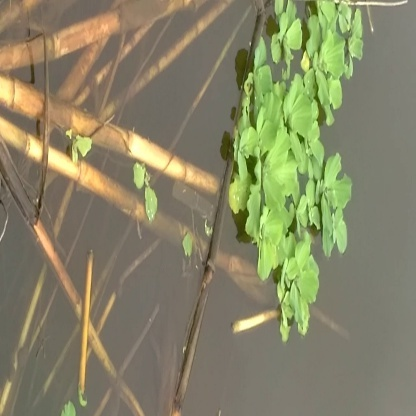branch: (5, 71, 210, 246)
